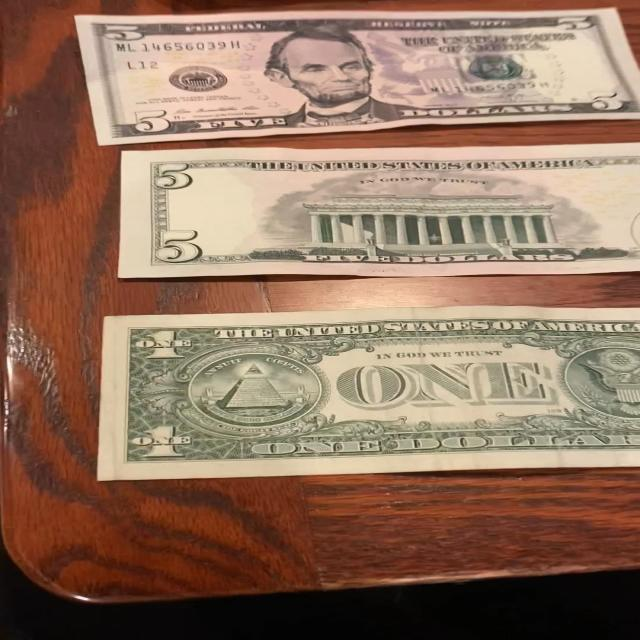1-Back: (83, 310, 640, 484)
5-Back: (110, 142, 640, 286)
5-Front: (73, 2, 639, 149)
